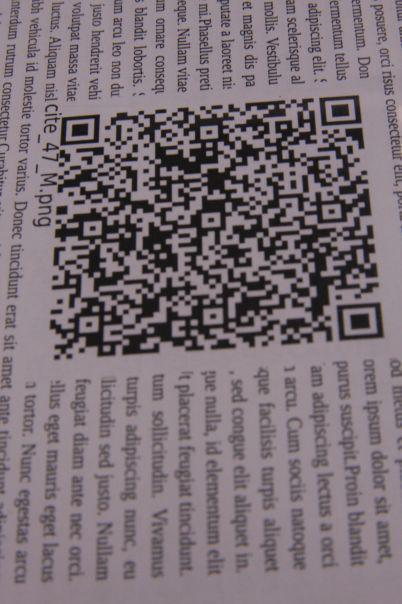qr_code: (49, 95, 385, 360)
